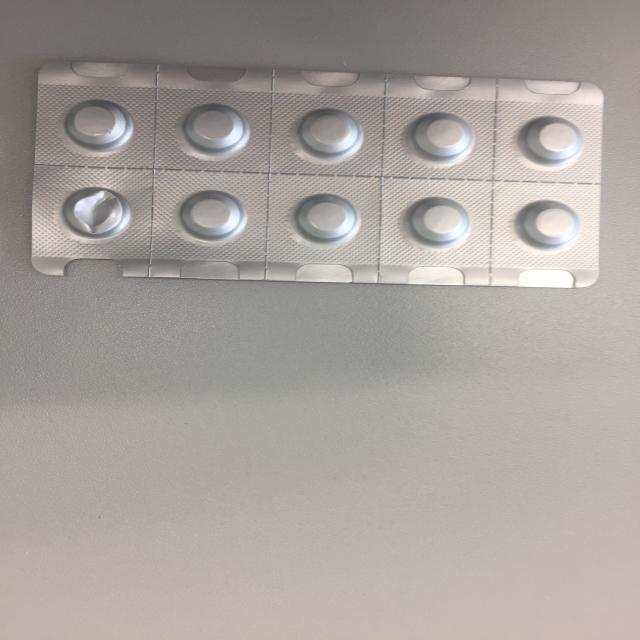Empty: (55, 181, 133, 243)
